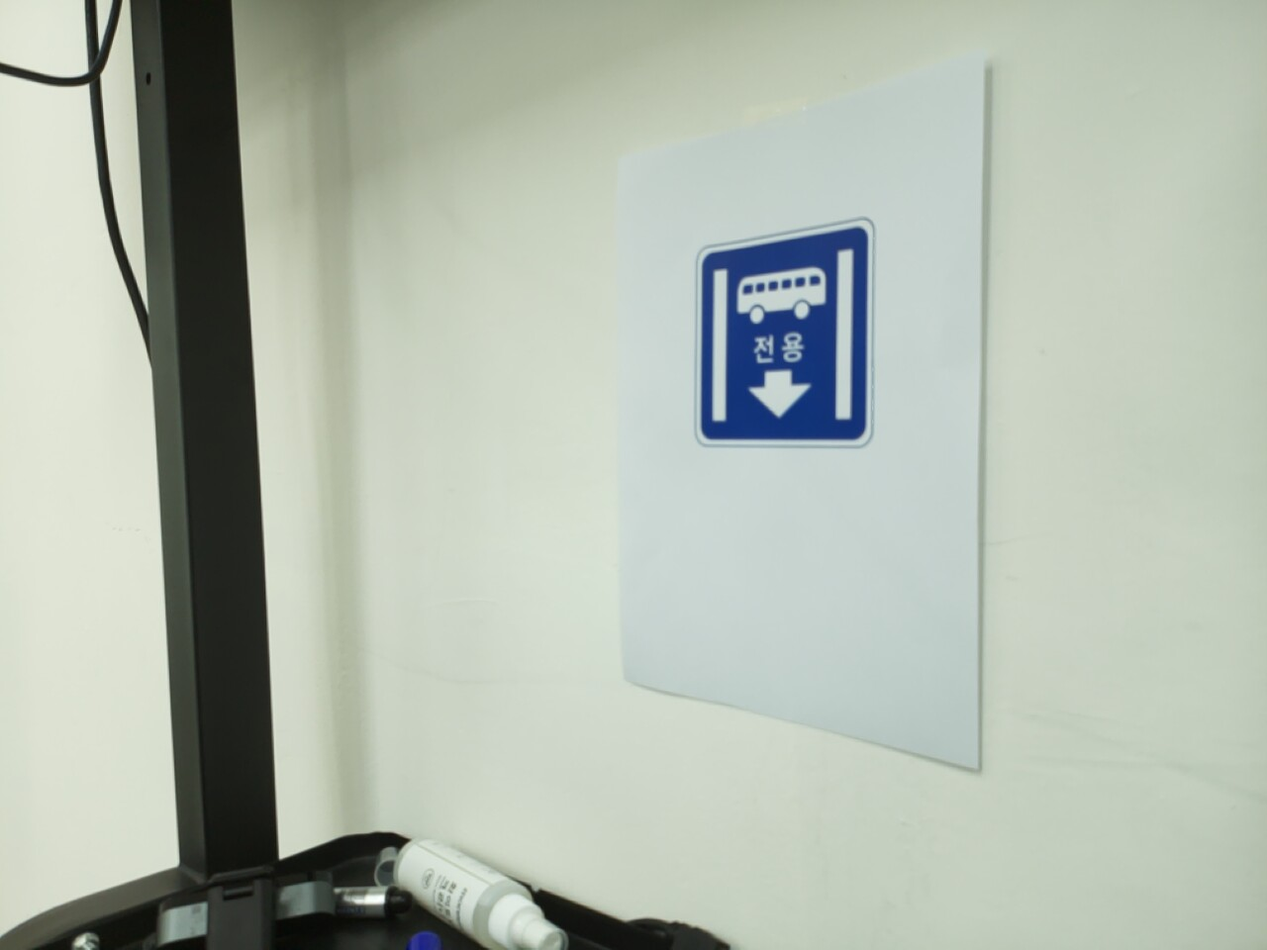bus_only_lane: (694, 219, 875, 448)
